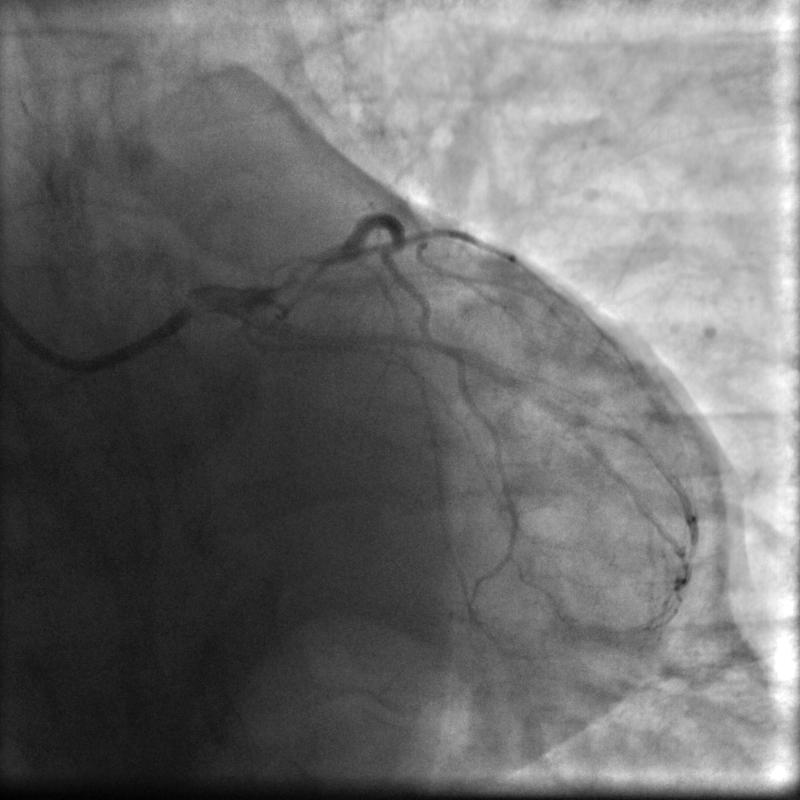Stenosis: (261, 251, 342, 291)
